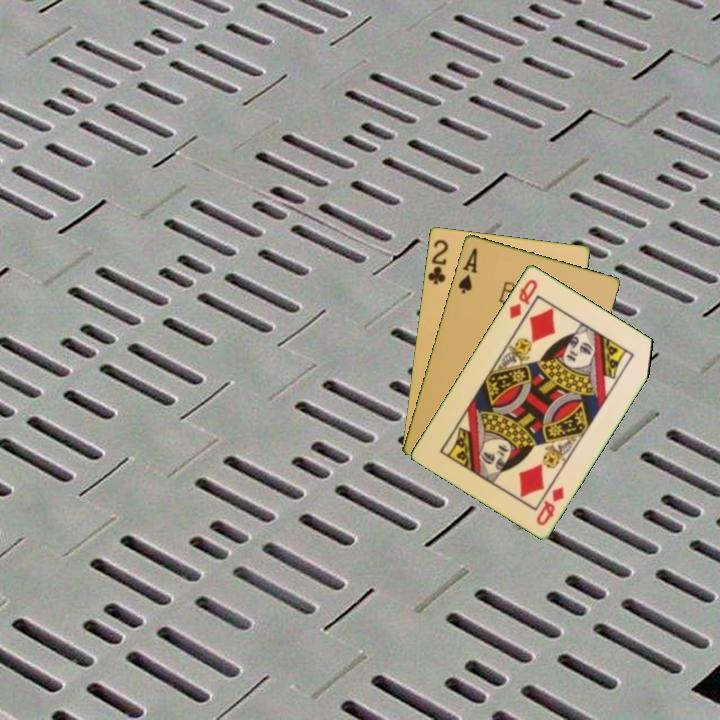2c: (424, 236, 451, 287)
As: (454, 244, 480, 296)
Qd: (505, 275, 541, 322), (532, 482, 567, 528)
